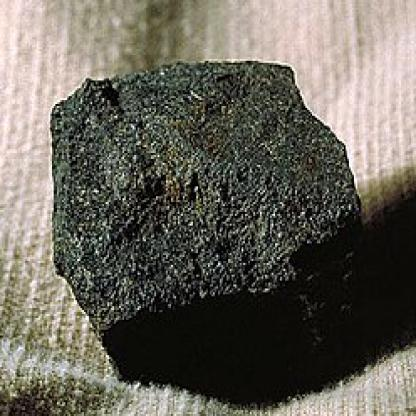Sedimentary_coal: (49, 43, 366, 389)
